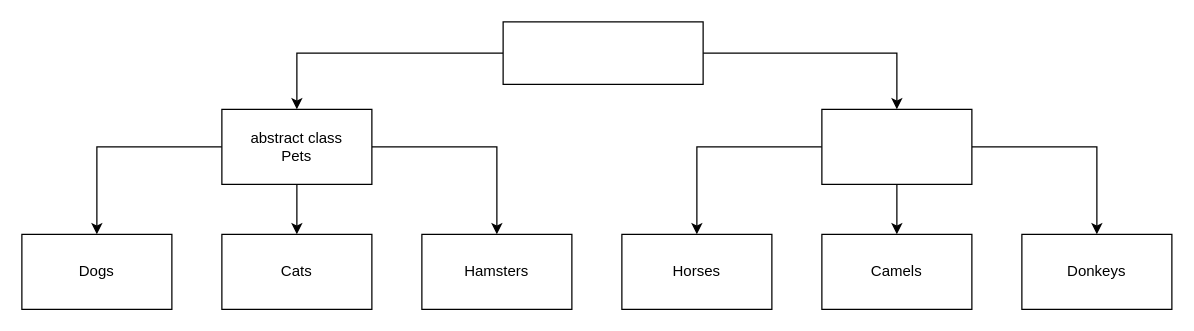
Image size: 1194x331. Some labels were removed from this diagram. Here are the shapes that lost their labels. From the top down, the centre of each, then its label:
the point at 602,52: abstract class Animals
the point at 896,146: abstract class PackAnimals
